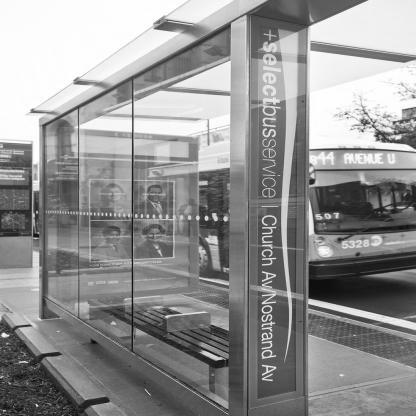bus: (111, 127, 416, 286)
